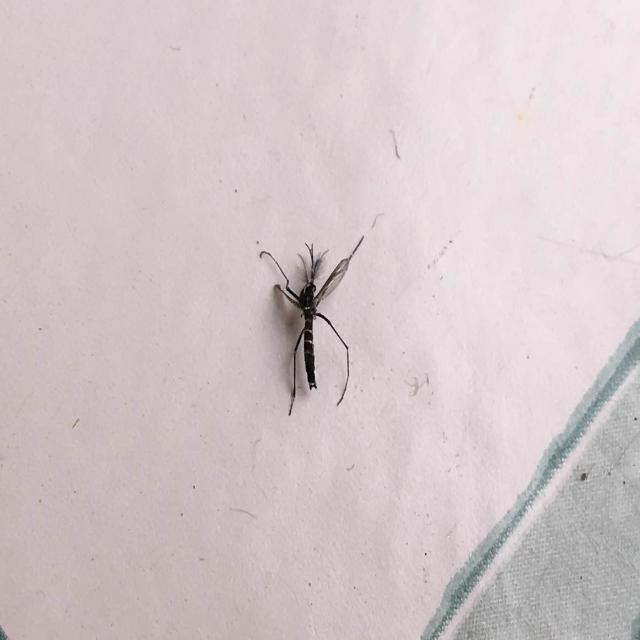albopictus: (252, 215, 374, 416)
